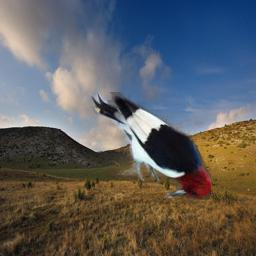Woodpecker: (87, 92, 211, 200)
